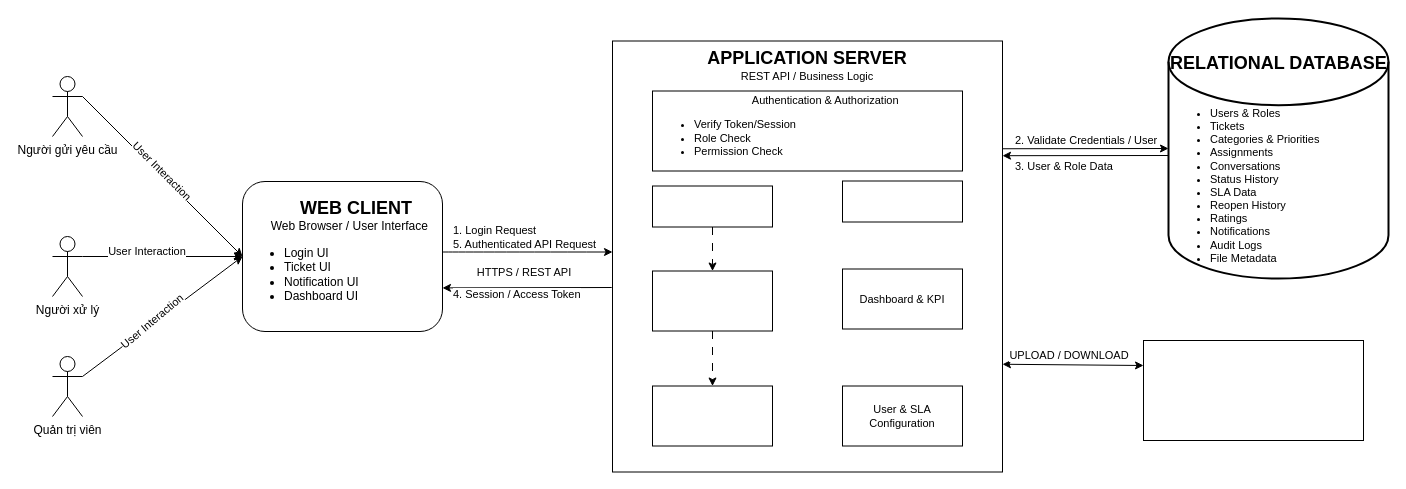
Some shapes in this 1406 by 489 pixel diagram are drawn without their labels. Each missing label, with the centre of its shape:
Audit Logging: the point at 902,201
FILE STORAGE Ticket Attachments Conversation Attachments Images Documents: the point at 1253,390
Notification & Escalation: the point at 712,415
SLA Management: the point at 712,300
Ticket Management: the point at 712,206
